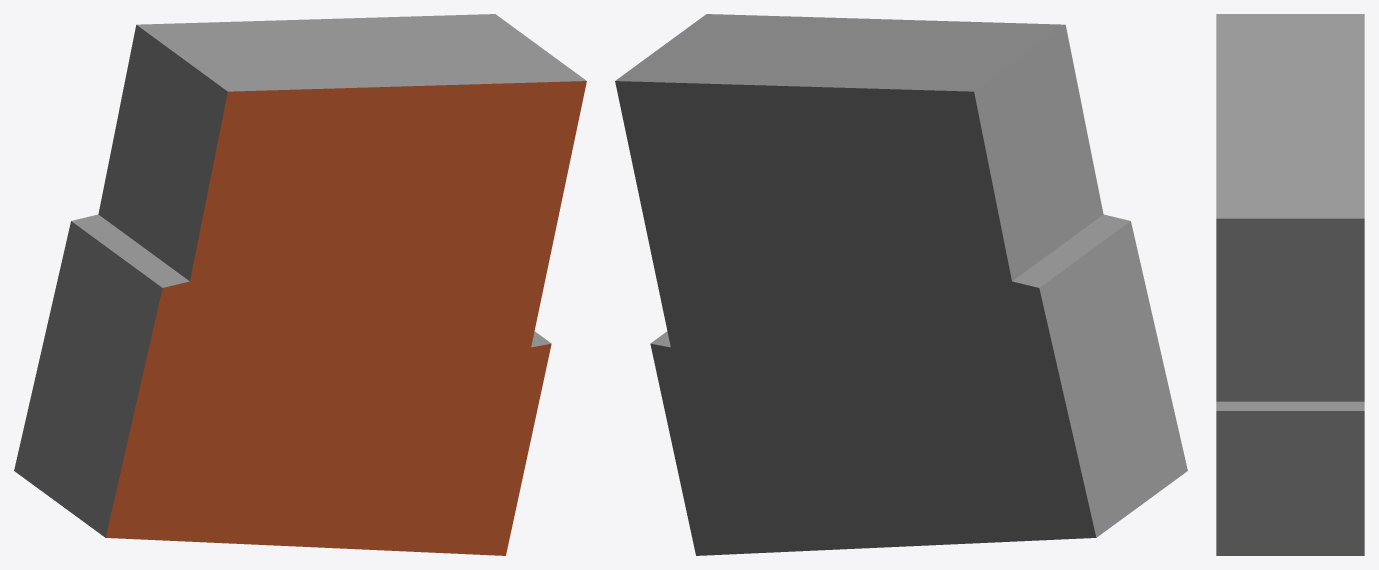
The model's file is construction_0936_assumed_A_Casa_h6m.obj.
The picture shows the model from 3 angles, left to right: view 1: azimuth 30°, elevation 25°; view 2: azimuth 150°, elevation 25°; view 3: azimuth 270°, elevation 25°; orthographic projection. The views are drawn at different scales.
Visible parts, largest first — view 1: construction_0936_assumed_A_Casa; view 2: construction_0936_assumed_A_Casa; view 3: construction_0936_assumed_A_Casa.
Boxes of the visible parts, x1,y1,x2,y2 form: construction_0936_assumed_A_Casa: (14,14,586,555); construction_0936_assumed_A_Casa: (615,14,1187,555); construction_0936_assumed_A_Casa: (1216,14,1364,555).
Size of the model in its own units: 18.21 by 19.24 by 6.
